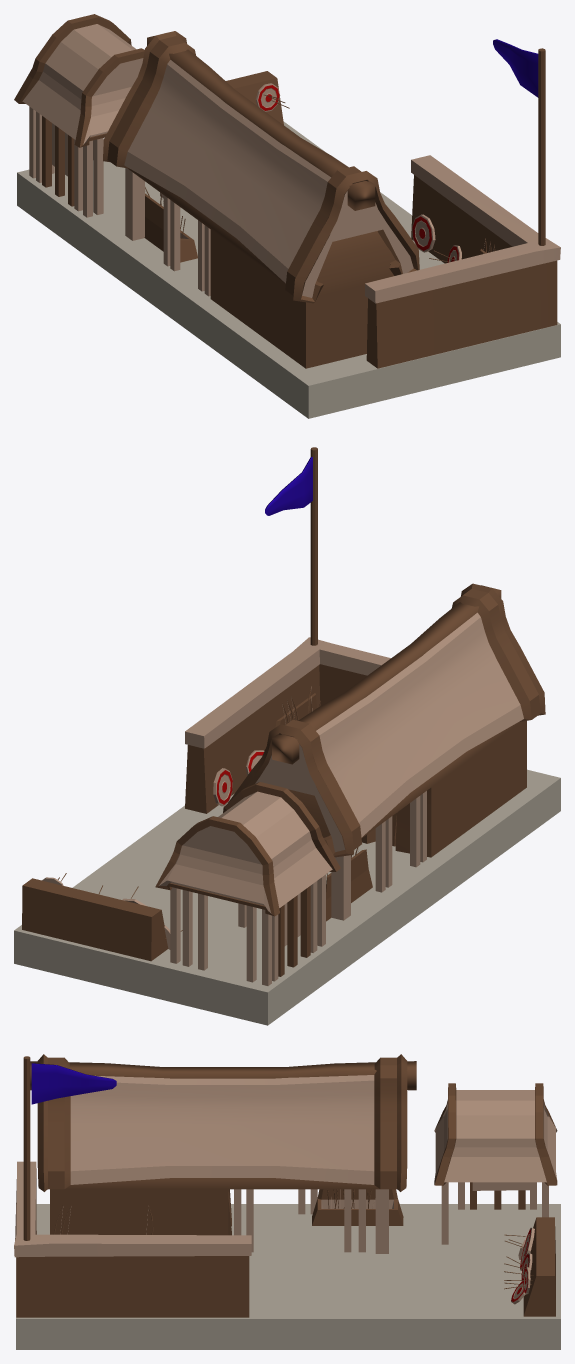
File: Archery.fbx
3 views of the same model, one above another, from view 1: azimuth 30°, elevation 25°; view 2: azimuth 150°, elevation 25°; view 3: azimuth 270°, elevation 25° (orthographic). The views are drawn at different scales.
Parts seen in each view (by area): view 1: Archery; view 2: Archery; view 3: Archery.
Boxes of the visible parts, left/top/right/bottom form: Archery: left=14, top=14, right=560, bottom=418; Archery: left=14, top=447, right=560, bottom=1025; Archery: left=14, top=1054, right=560, bottom=1349.
Bounding box in the file's own units: 8.17 × 9.27 × 16.06.
